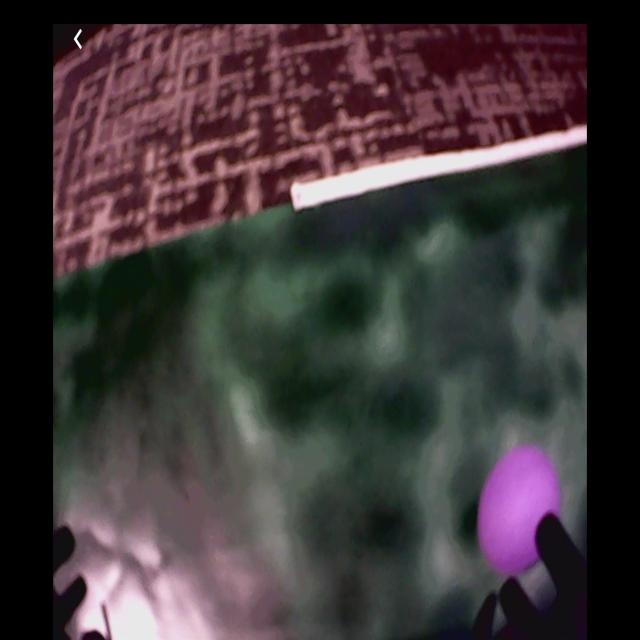ball: (479, 446, 561, 573)
